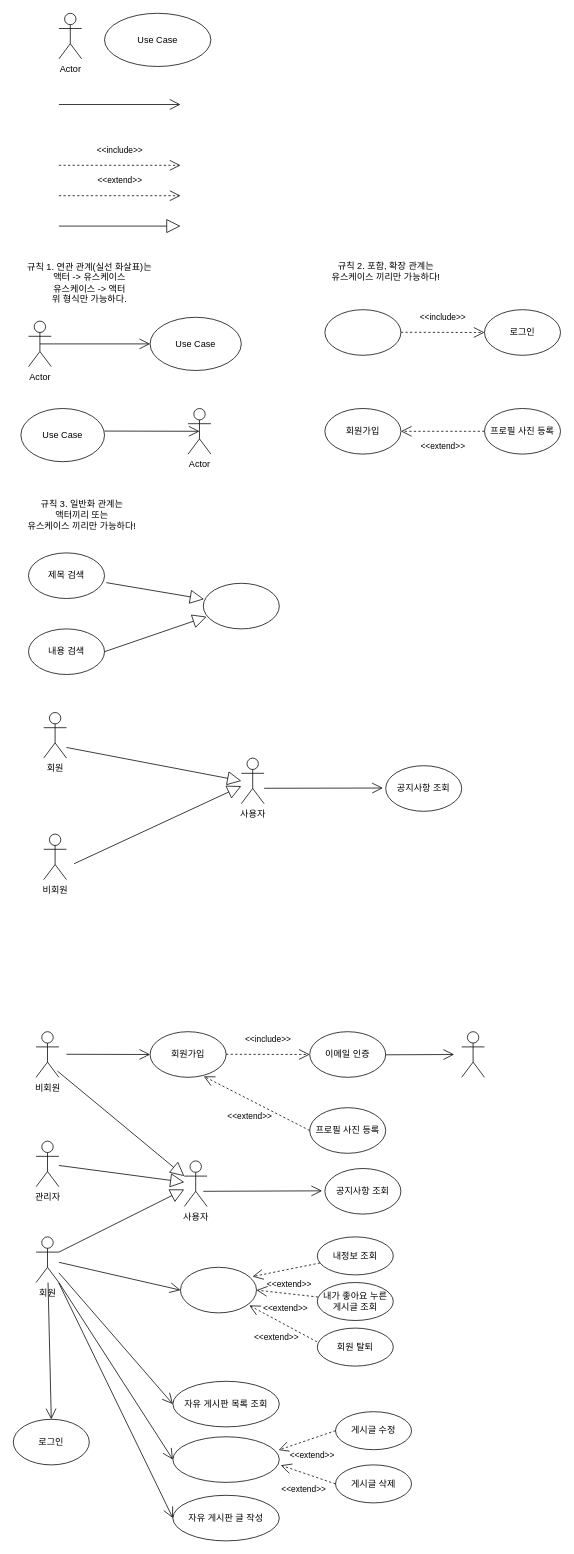
The diagram is 574 pixels wide and 1554 high, and some of its shapes have lost their labels. Here are the shapes that lost their labels. From the top down, the centre of each, then its label:
At (x=362, y=332): "내 정보 조회".
At (x=241, y=606): "게시글 검색".
At (x=472, y=1054): "Gmail 서버".
At (x=218, y=1290): "마이페이지".
At (x=225, y=1459): "자유 게시판 상세 조회".
